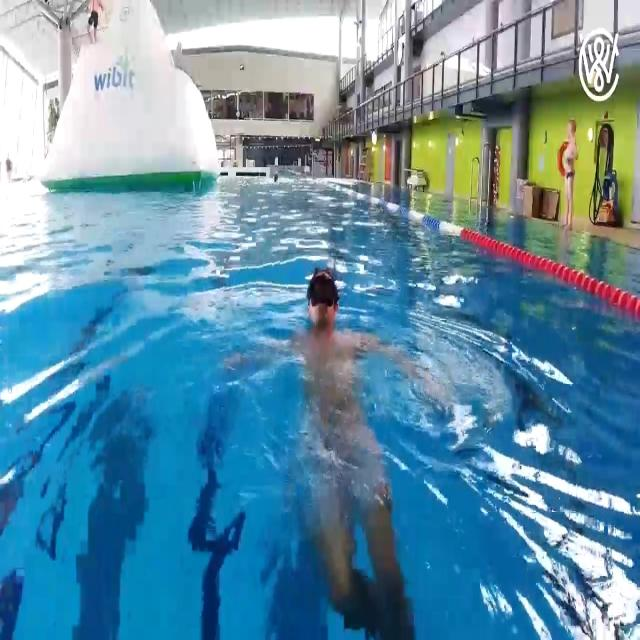Swimming: (293, 268, 393, 598)
